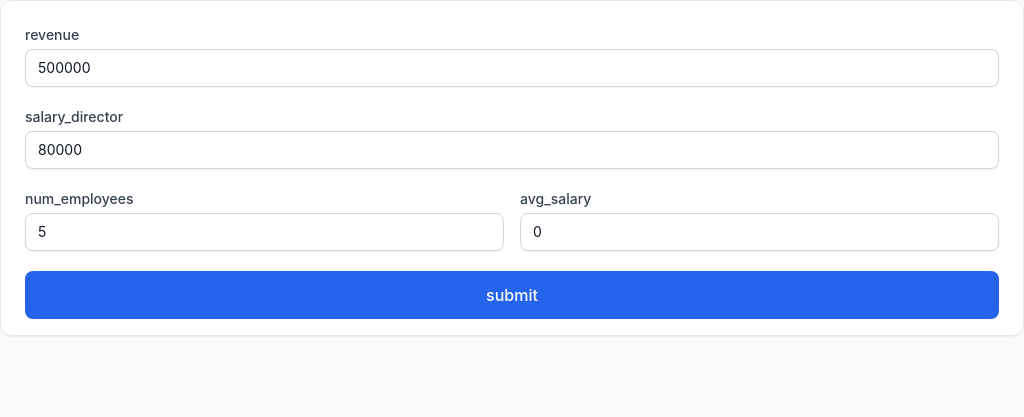
Test: FiscalForm › shows error message on API failure
This screenshot has width=1024, height=417.
What coordinates should you click on to do the following:
click the button "submit"
I would click on:
 (512, 295)
Its box is [25,271,999,319].
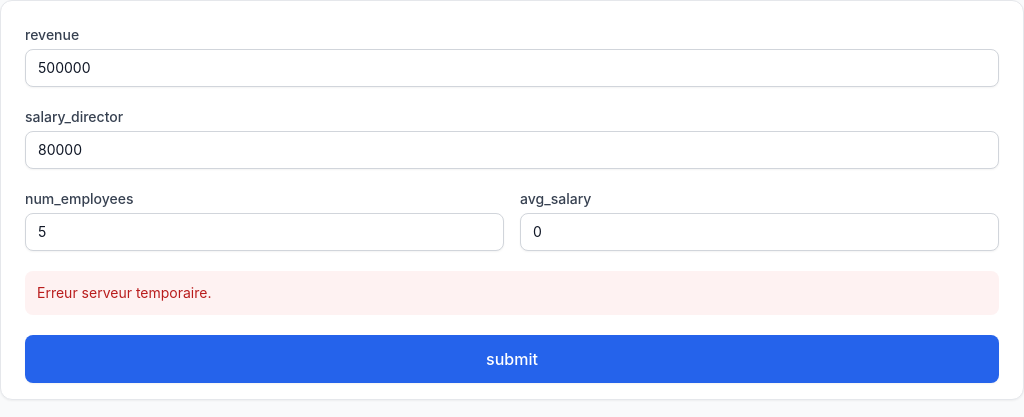
Expected: the text "Erreur serveur temporaire." is shown, [25,271,999,315]
